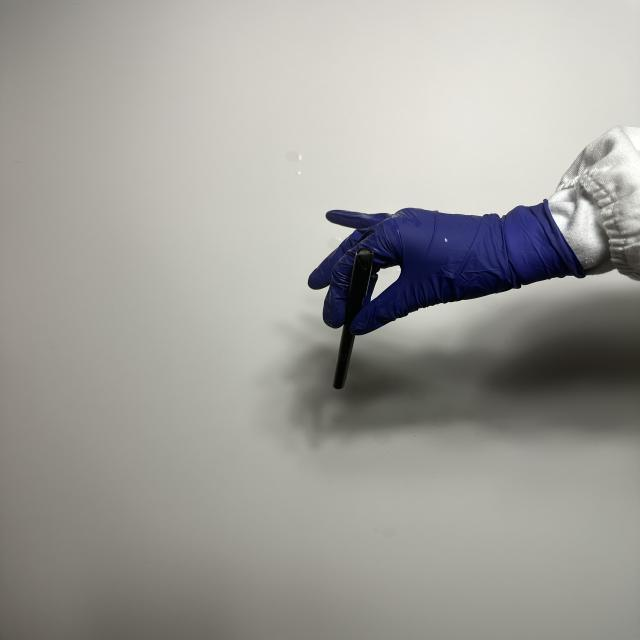gloves_contaminated: (308, 200, 584, 334)
